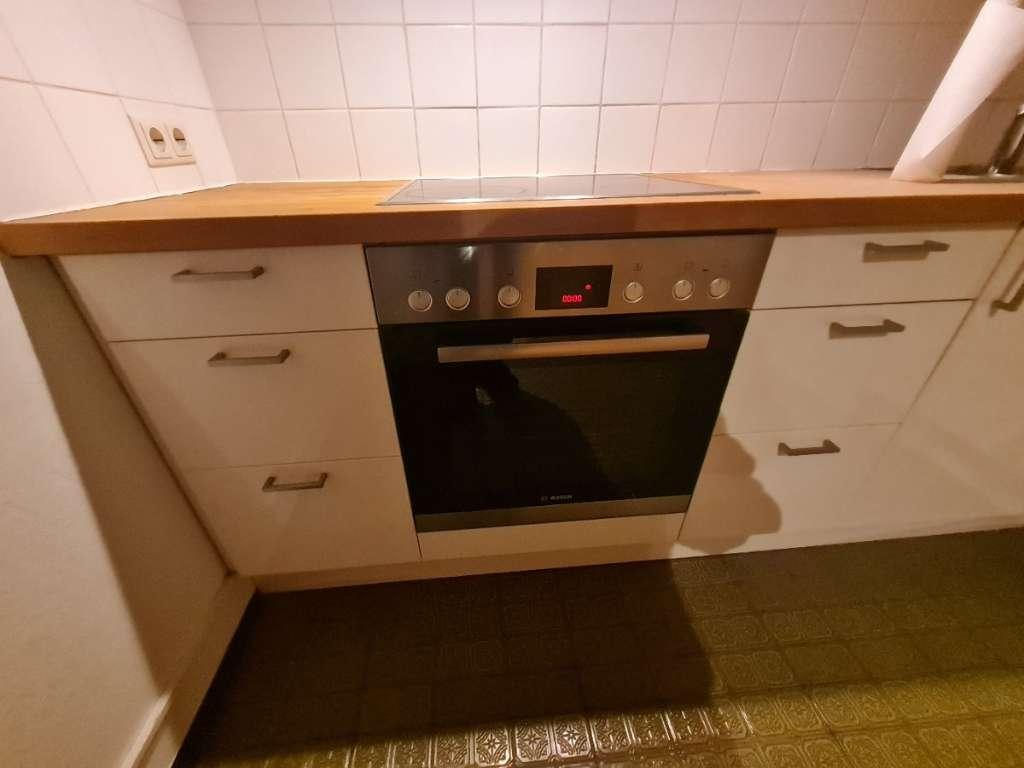cabinet_door: (147, 336, 382, 464), (729, 309, 934, 429), (87, 256, 372, 337), (206, 471, 411, 569), (763, 233, 1002, 303), (693, 430, 873, 517)
handle: (431, 329, 707, 367), (170, 261, 274, 286), (205, 344, 298, 370), (857, 239, 948, 264), (259, 470, 334, 496), (826, 318, 906, 340), (771, 437, 842, 459)
